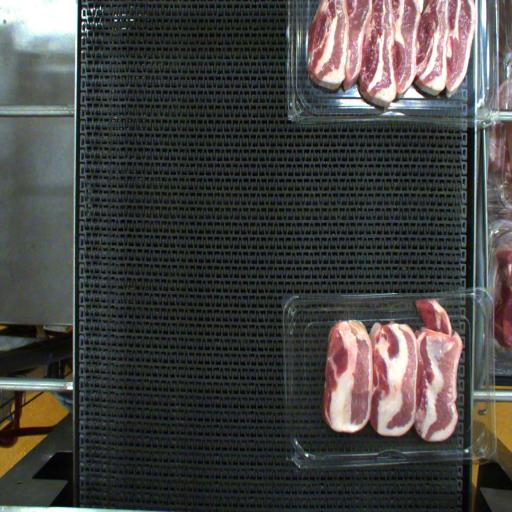packaging-error: (410, 290, 458, 328)
